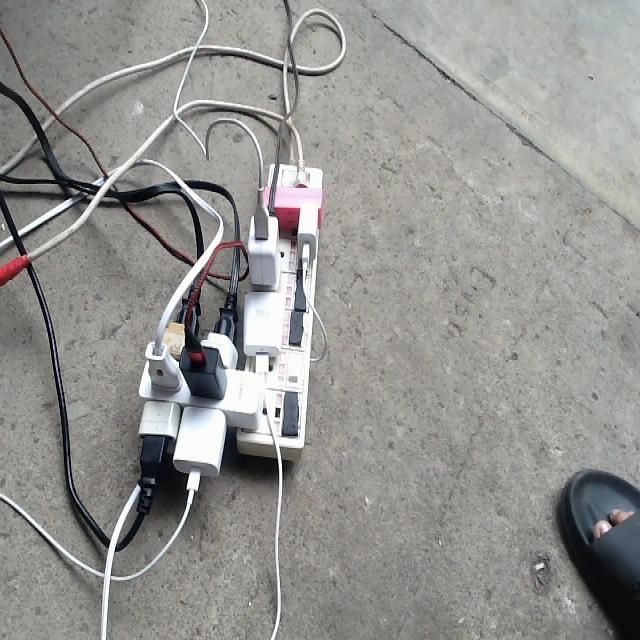-: (135, 162, 321, 522)
